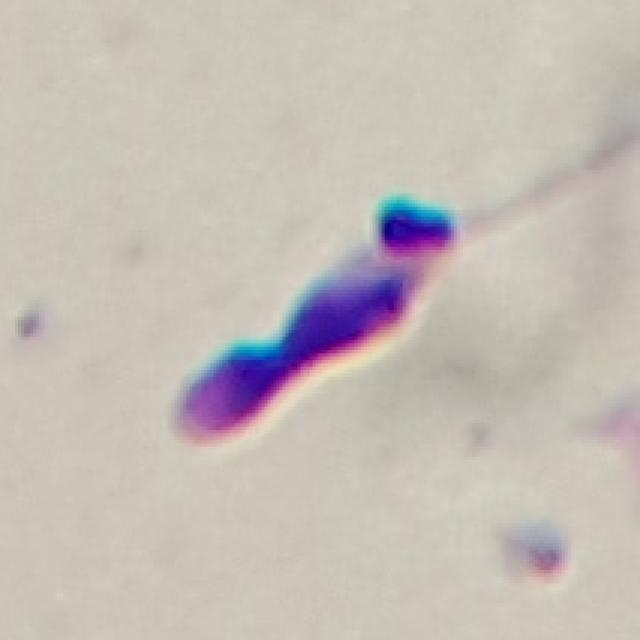abnormal sperm: (159, 187, 541, 454)
